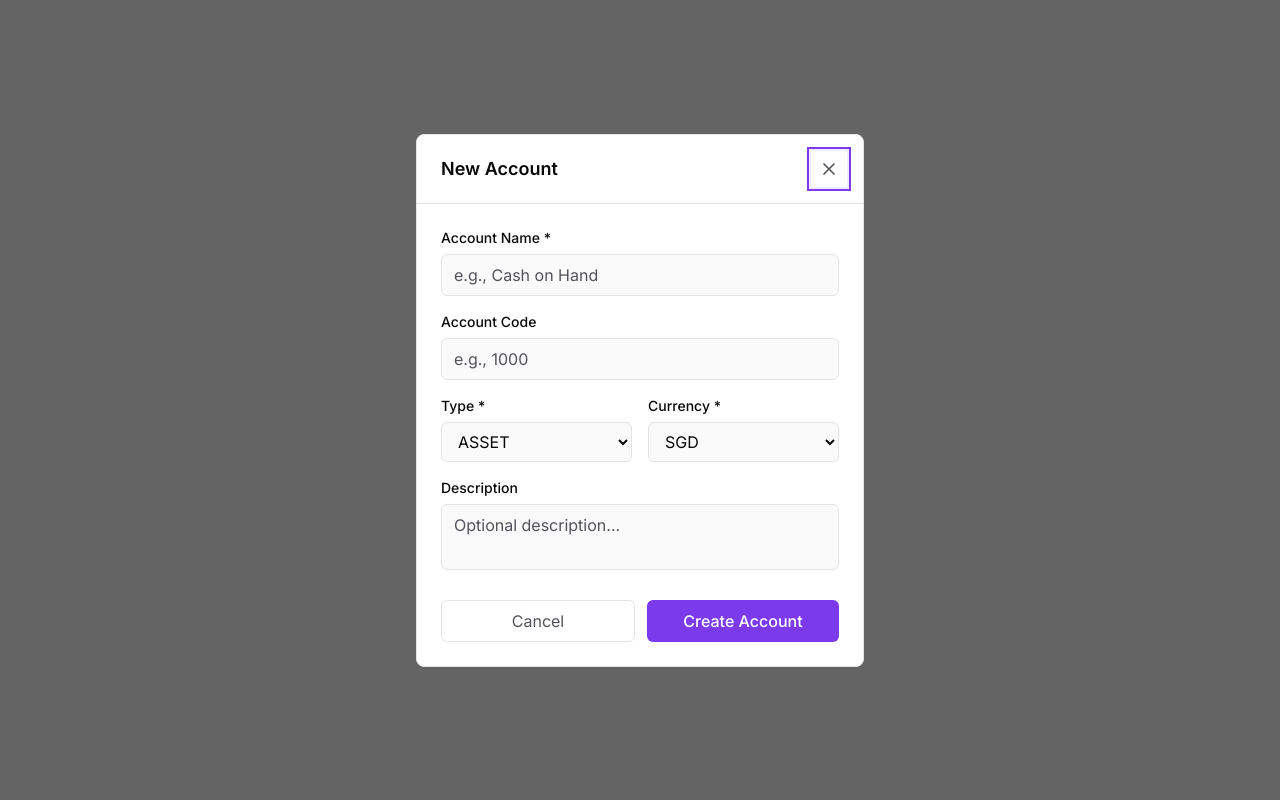
Test: AccountFormModal › AC16.21.3 shows validation and API errors in create flow
Click the button "Create Account" at (743, 620), box [647,600,839,642]
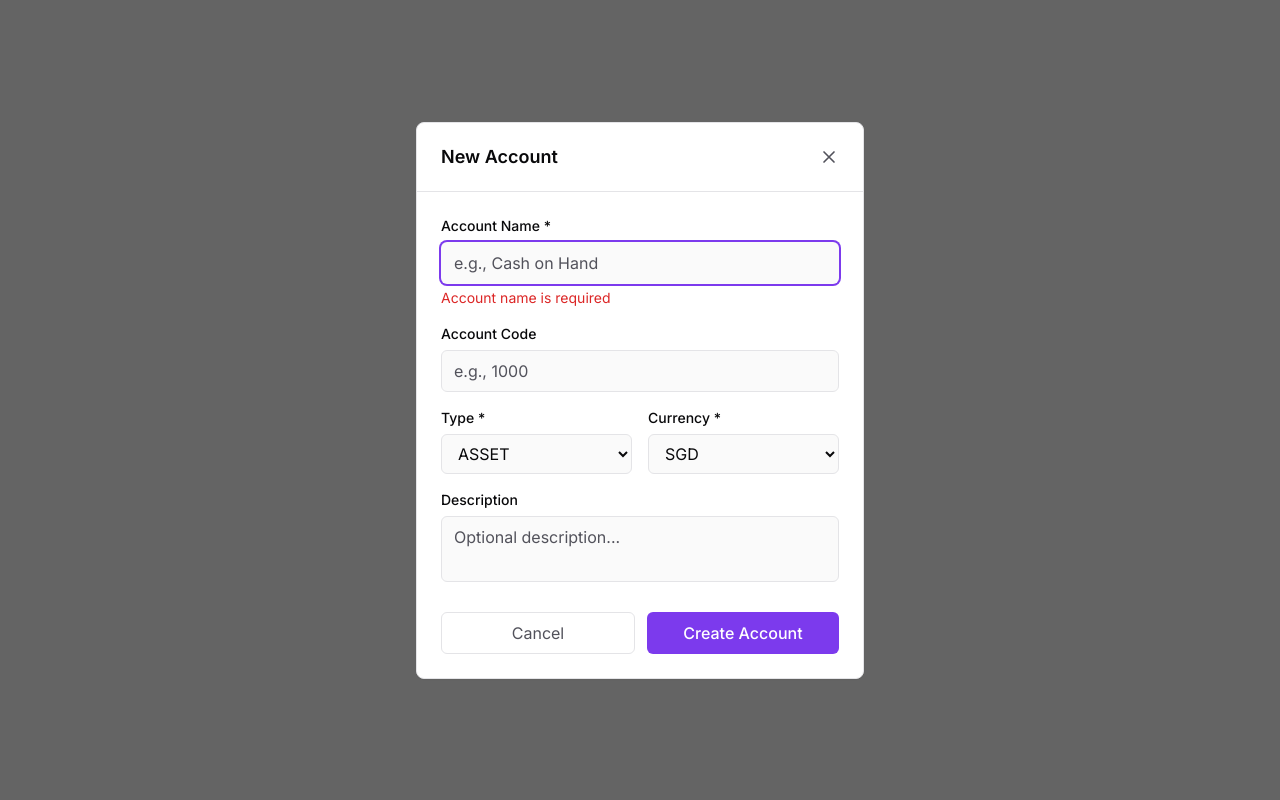
Now the text "Account name is required" is shown, box [441,288,610,306]
Type "Cash" into the field with placeholder "e.g., Cash on Hand" at (640, 262), box [441,242,839,284]
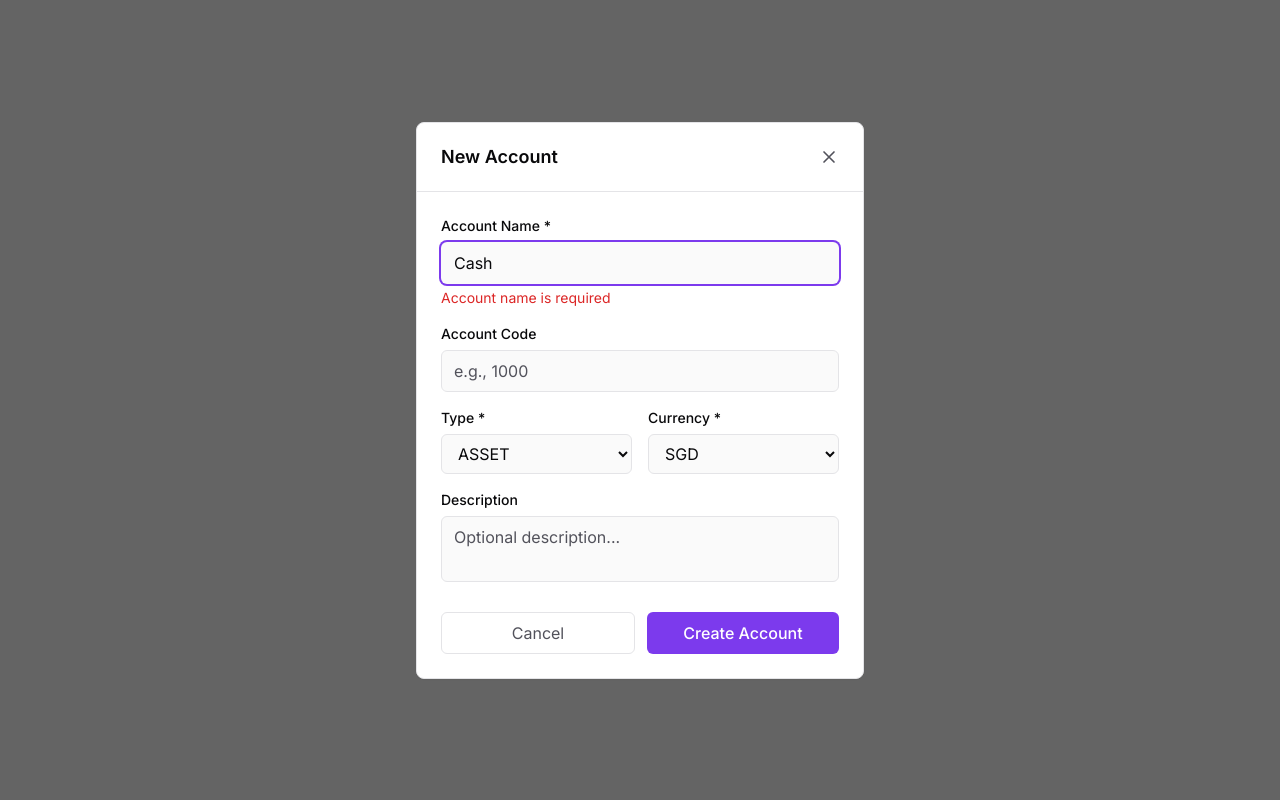
Click the button "Create Account" at (743, 632), box [647,612,839,654]
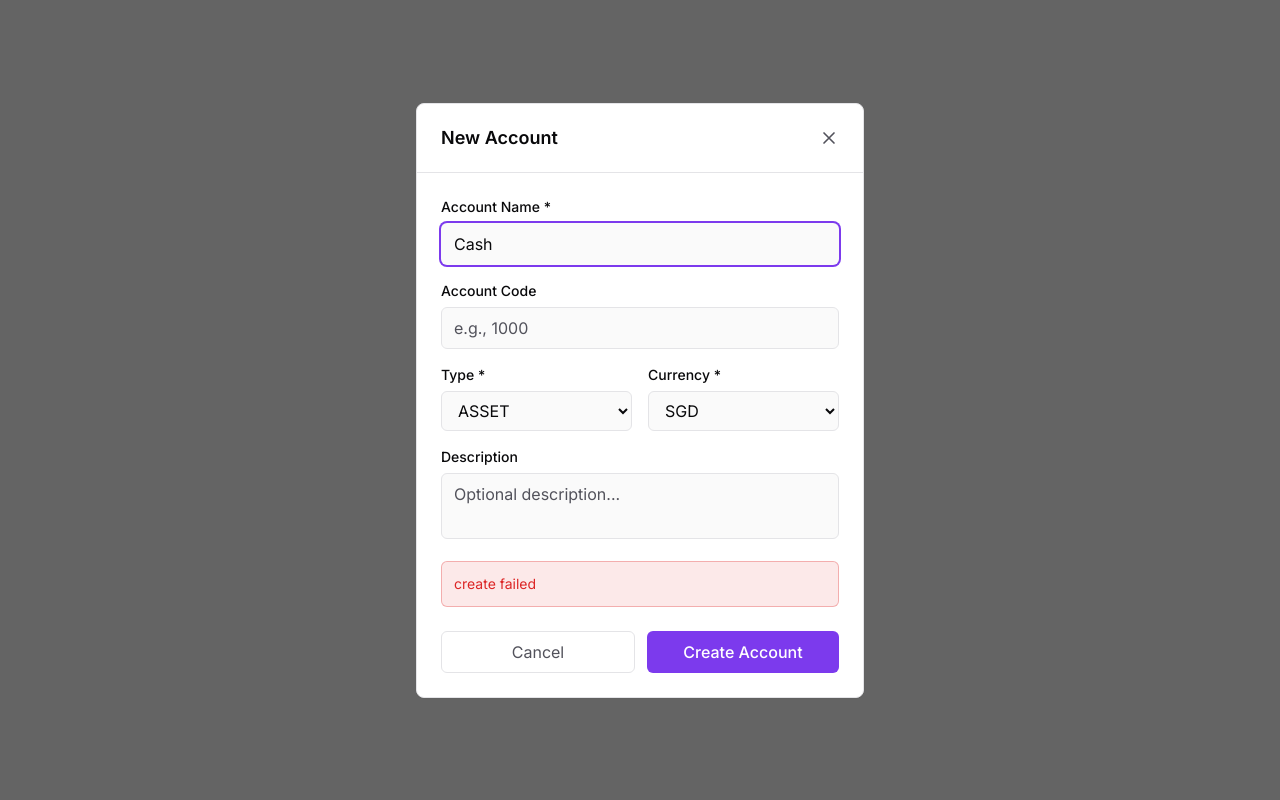
Now the text "create failed" is shown, box [441,560,839,606]
